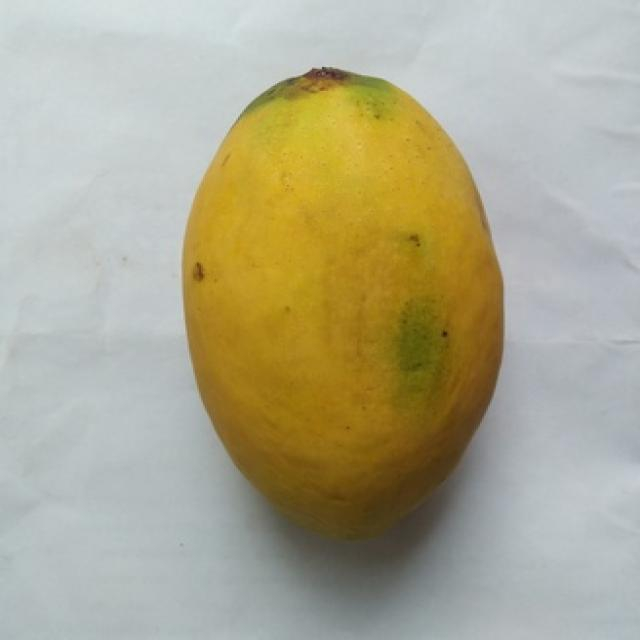Mango: (185, 69, 501, 536)
